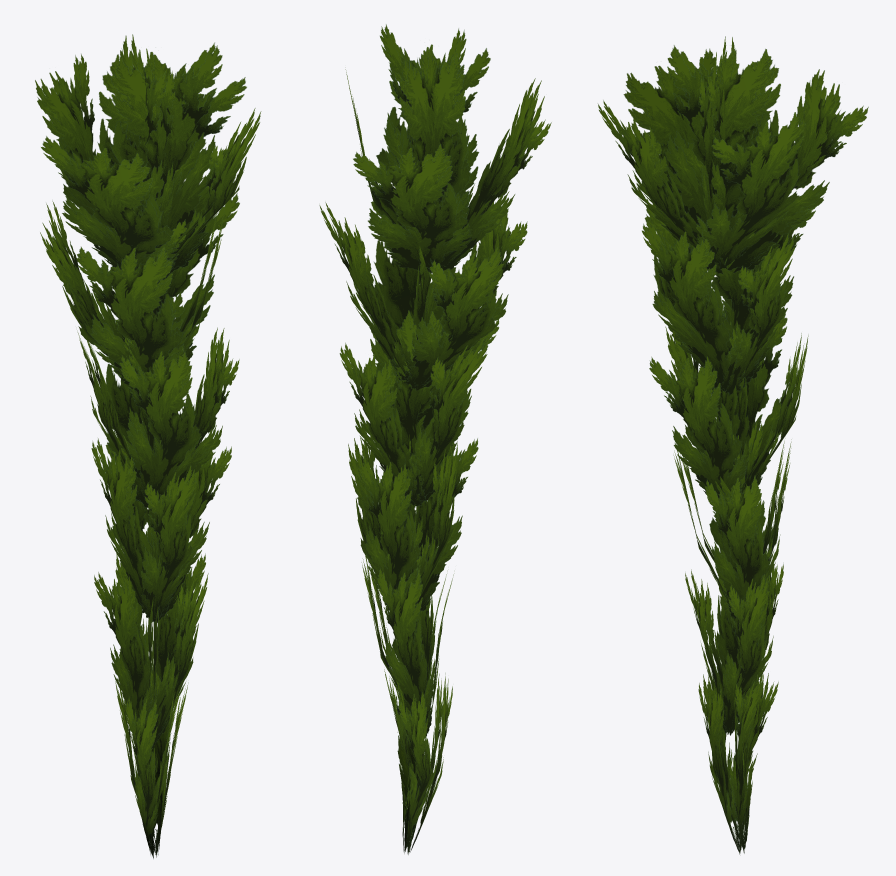
File: SeaWeed04_LOD0_newsmall.glb
3 views of the same model, side by side, from view 1: azimuth 30°, elevation 25°; view 2: azimuth 150°, elevation 25°; view 3: azimuth 270°, elevation 25° (orthographic). The views are drawn at different scales.
Parts seen in each view (by area): view 1: SeaWeed04_high; view 2: SeaWeed04_high; view 3: SeaWeed04_high.
Boxes of the visible parts, left/top/right/bottom form: SeaWeed04_high: left=35, top=34, right=261, bottom=858; SeaWeed04_high: left=319, top=24, right=551, bottom=854; SeaWeed04_high: left=598, top=36, right=868, bottom=854.
Bounding box in the file's own units: 0.0979 × 0.3149 × 0.1055.
1 material, 1 textured.
